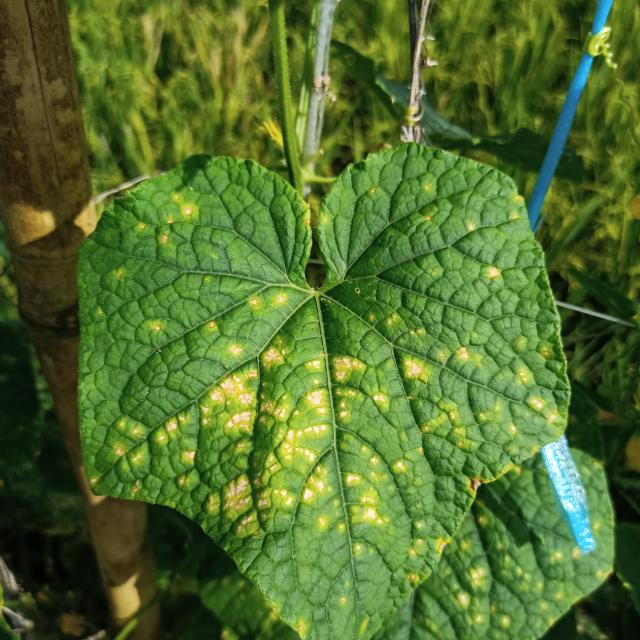disease_cucumber: (100, 185, 557, 621)
